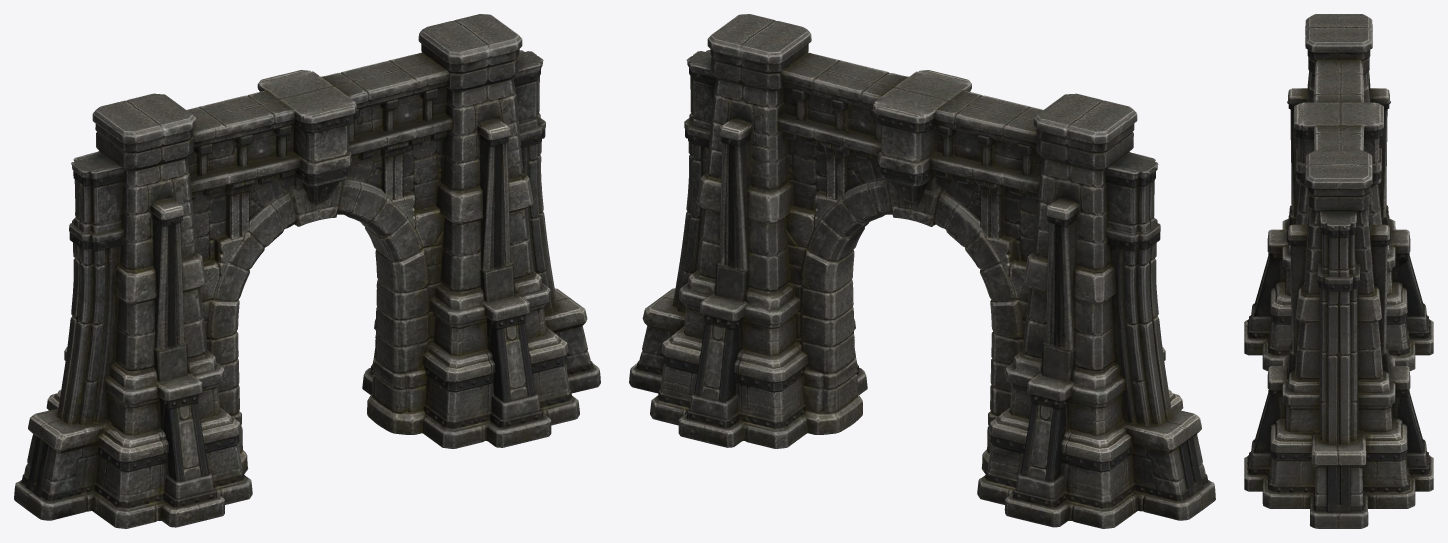
Rendered from Meshy_AI_A_single_standalone_m_0823050543_texture.glb.
The picture shows the model from 3 angles, left to right: view 1: azimuth 30°, elevation 25°; view 2: azimuth 150°, elevation 25°; view 3: azimuth 270°, elevation 25°; orthographic projection. The views are drawn at different scales.
Visible parts, largest first — view 1: mesh_node; view 2: mesh_node; view 3: mesh_node.
Boxes of the visible parts, bbox=[...] form: mesh_node: bbox=[14, 14, 600, 528]; mesh_node: bbox=[629, 14, 1215, 528]; mesh_node: bbox=[1244, 14, 1433, 528].
Bounding box in the file's own units: 1.9 × 1.2 × 0.6505.
Materials: 1 (1 with a texture image).
